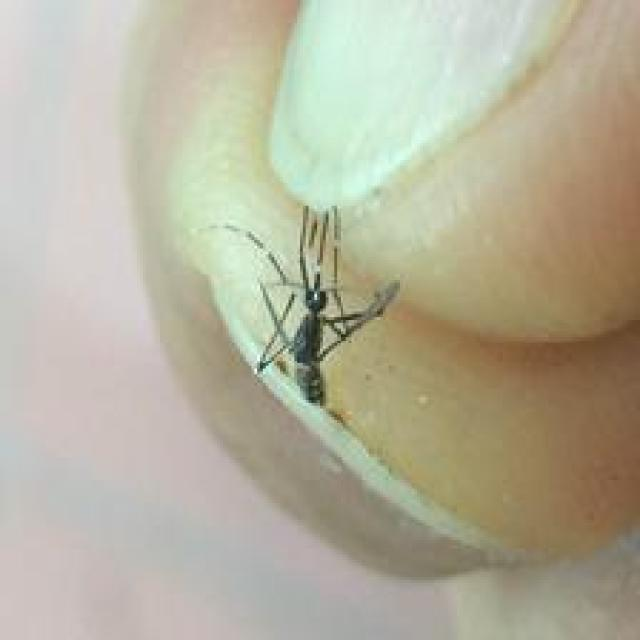Aedes albopictus: (226, 203, 403, 417)
